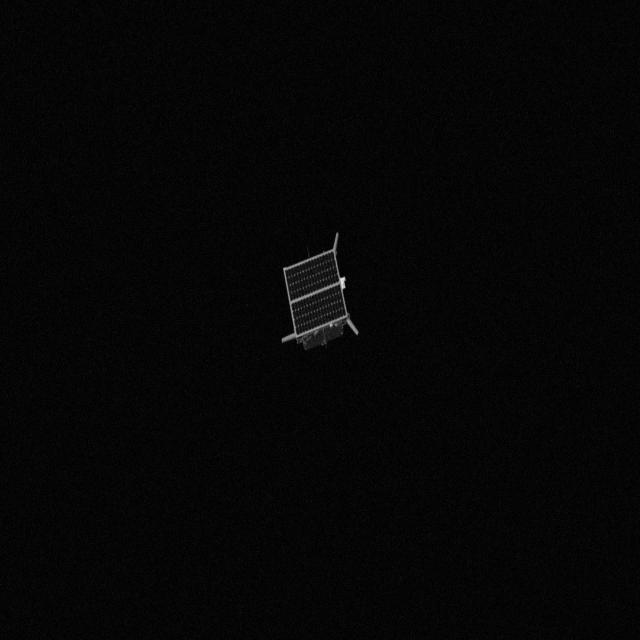medium_debris: (280, 230, 366, 368)
